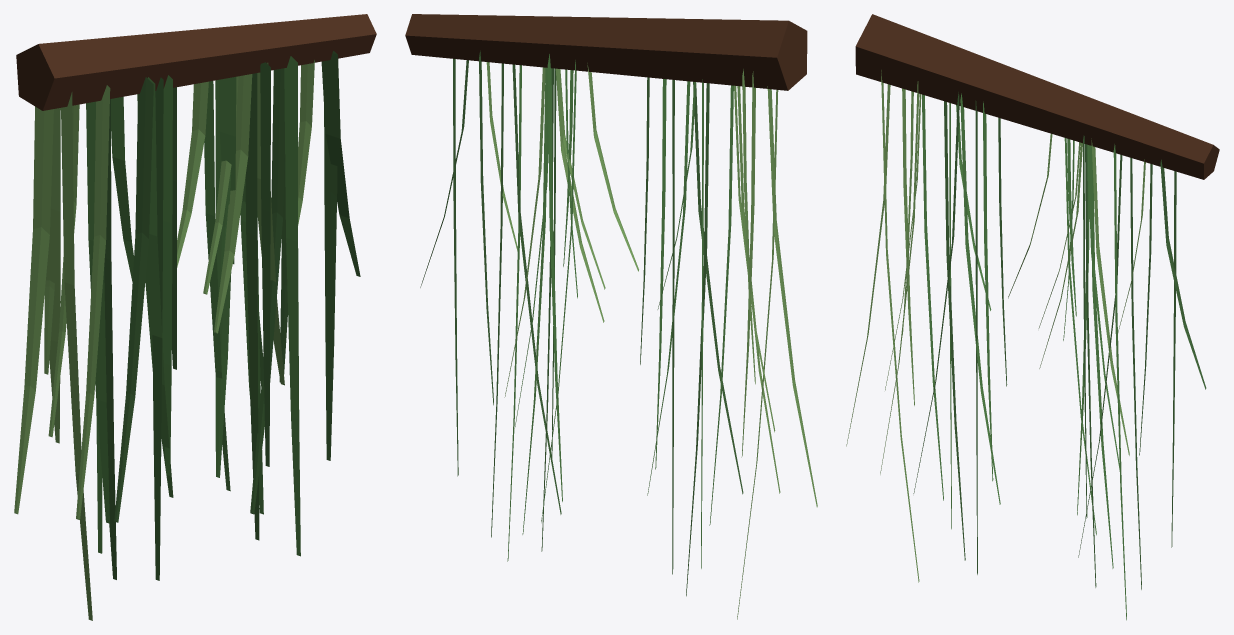
Rendered from hanging_moss.glb.
3 views of the same model, side by side, from view 1: azimuth 30°, elevation 25°; view 2: azimuth 150°, elevation 25°; view 3: azimuth 330°, elevation 25° (orthographic). The views are drawn at different scales.
Visible parts, largest first — view 1: hanging_moss.001; view 2: hanging_moss.001; view 3: hanging_moss.001.
Boxes of the visible parts, bbox=[...] form: hanging_moss.001: bbox=[14, 14, 376, 620]; hanging_moss.001: bbox=[405, 14, 817, 619]; hanging_moss.001: bbox=[846, 14, 1219, 620].
Size of the model in its own units: 1.09 by 1.65 by 0.2304.
